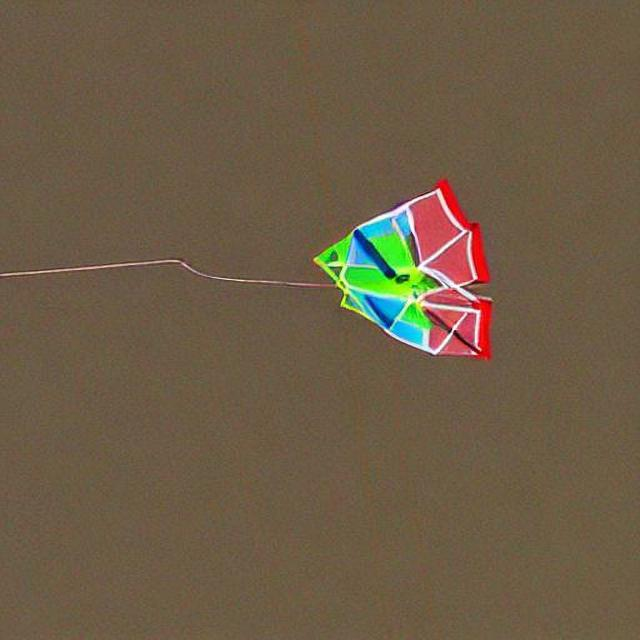floating object: (312, 179, 493, 356)
